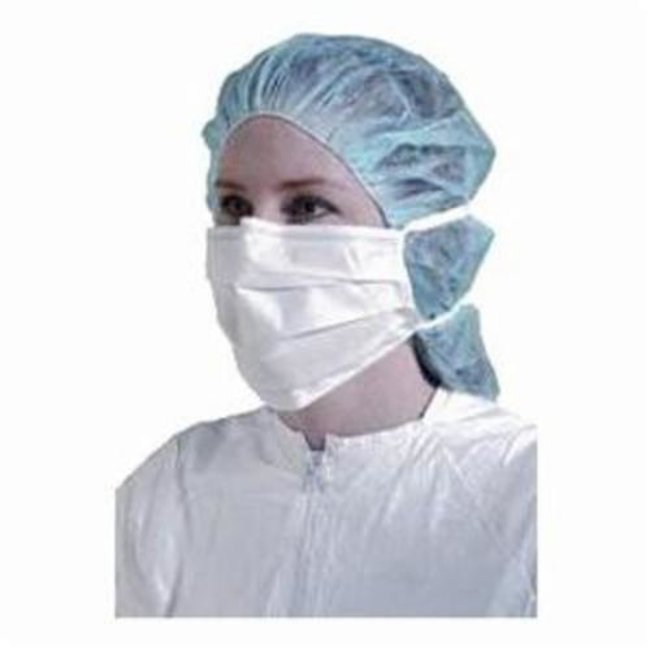mask: (171, 19, 505, 407)
